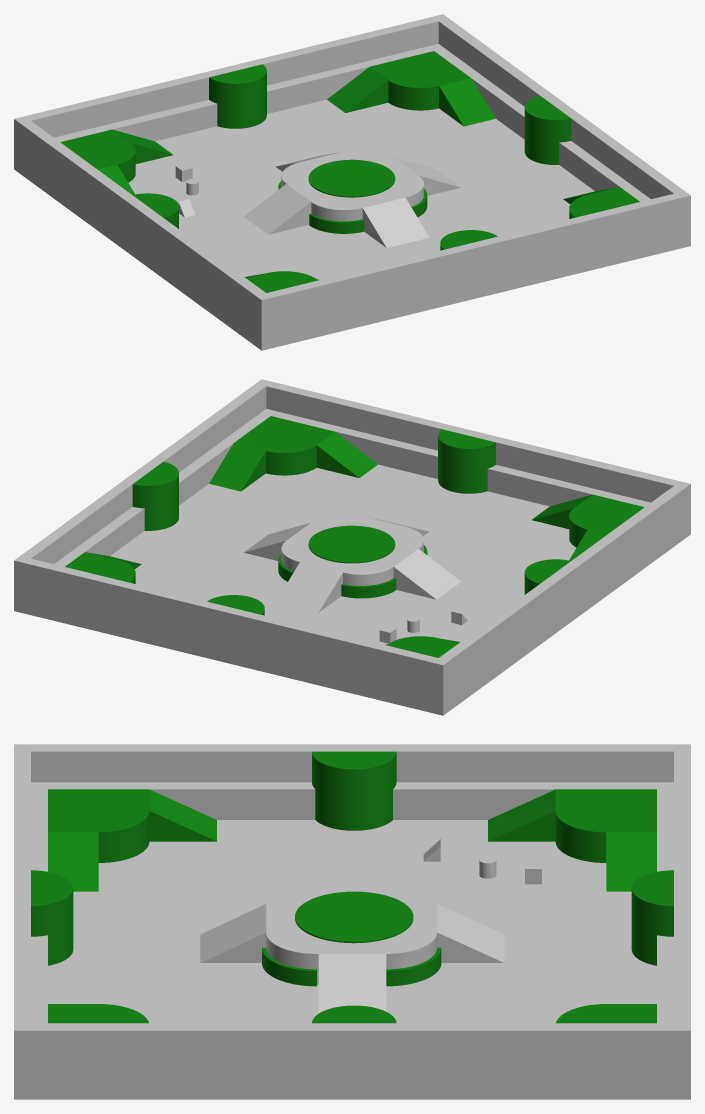
File: Lec06Ex1.fbx
3 views of the same model, one above another, from view 1: azimuth 30°, elevation 25°; view 2: azimuth 150°, elevation 25°; view 3: azimuth 270°, elevation 25° (orthographic). The views are drawn at different scales.
Parts seen in each view (by area): view 1: Floor, SM_Cube19, SM_Cube18, SM_Cube5, SM_Cube20, SM_Cube17, SM_Cube3, SM_Cube4, SM_Cube2, SM_Cylinder, SM_Ramp12, SM_Ramp9 (+18 smaller); view 2: Floor, SM_Cube18, SM_Cube19, SM_Cube4, SM_Cube20, SM_Cube17, SM_Cube3, SM_Cube5, SM_Cube2, SM_Cylinder, SM_Ramp10, SM_Ramp9 (+18 smaller); view 3: Floor, SM_Cube17, SM_Cube20, SM_Cube2, SM_Cube3, SM_Cylinder, SM_Cube18, SM_Cube19, SM_Ramp11, SM_Cylinder6, SM_Cylinder7, SM_Ramp10 (+33 smaller).
Part boxes in pixels (x1,y1,x2,y2): Floor: [14, 99, 690, 350]; SM_Cube19: [266, 193, 680, 319]; SM_Cube18: [25, 17, 438, 137]; SM_Cube5: [283, 223, 669, 339]; SM_Cube20: [14, 116, 272, 322]; SM_Cube17: [433, 14, 690, 220]; SM_Cube3: [14, 141, 283, 344]; SM_Cube4: [54, 46, 433, 141]; SM_Cube2: [428, 44, 690, 245]; SM_Cylinder: [308, 159, 395, 197]; SM_Ramp12: [362, 197, 429, 247]; SM_Ramp9: [243, 184, 311, 234]; Floor: [14, 464, 690, 715]; SM_Cube18: [24, 558, 438, 684]; SM_Cube19: [266, 382, 679, 502]; SM_Cube4: [35, 588, 421, 704]; SM_Cube20: [432, 481, 690, 687]; SM_Cube17: [14, 379, 271, 585]; SM_Cube3: [421, 506, 690, 709]; SM_Cube5: [271, 411, 650, 506]; SM_Cube2: [14, 409, 276, 610]; SM_Cylinder: [308, 525, 395, 563]; SM_Ramp10: [275, 562, 342, 612]; SM_Ramp9: [393, 549, 461, 599]; Floor: [14, 820, 690, 1099]; SM_Cube17: [14, 1023, 690, 1061]; SM_Cube20: [14, 744, 690, 782]; SM_Cube2: [14, 1061, 690, 1091]; SM_Cube3: [31, 782, 673, 819]; SM_Cylinder: [295, 891, 413, 943]; SM_Cube18: [674, 751, 690, 1023]; SM_Cube19: [14, 751, 30, 1023]; SM_Ramp11: [318, 954, 386, 1012]; SM_Cylinder6: [312, 751, 354, 830]; SM_Cylinder7: [354, 751, 396, 830]; SM_Ramp10: [437, 904, 504, 962].
Size of what is drawn, in the model's own units: 4000 by 4000 by 500.
